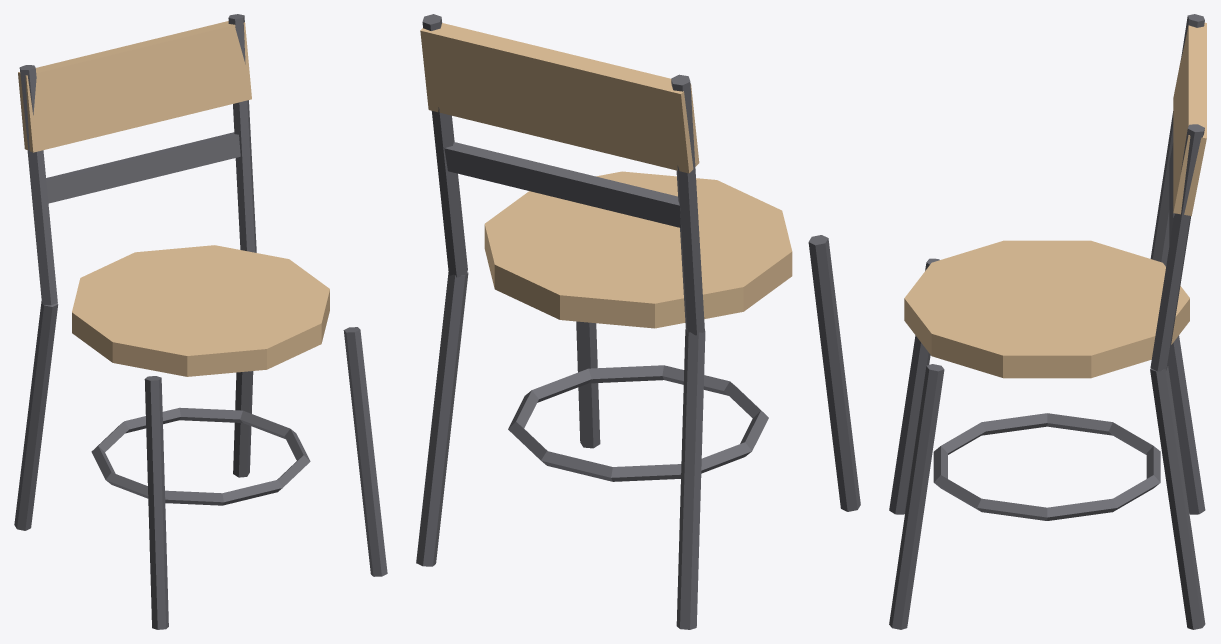
The model's file is prop_terrace_chair_01.glb.
3 renders of one model, left to right at view 1: azimuth 30°, elevation 25°; view 2: azimuth 150°, elevation 25°; view 3: azimuth 270°, elevation 25°, orthographic. The views are drawn at different scales.
Visible parts, largest first — view 1: prop_terrace_chair_01_body; view 2: prop_terrace_chair_01_body; view 3: prop_terrace_chair_01_body.
Boxes of the visible parts, x1,y1,x2,y2 form: prop_terrace_chair_01_body: (14,14,387,629); prop_terrace_chair_01_body: (416,14,860,629); prop_terrace_chair_01_body: (889,14,1206,629).
Bounding box in the file's own units: 0.4685 × 0.8836 × 0.5115.
